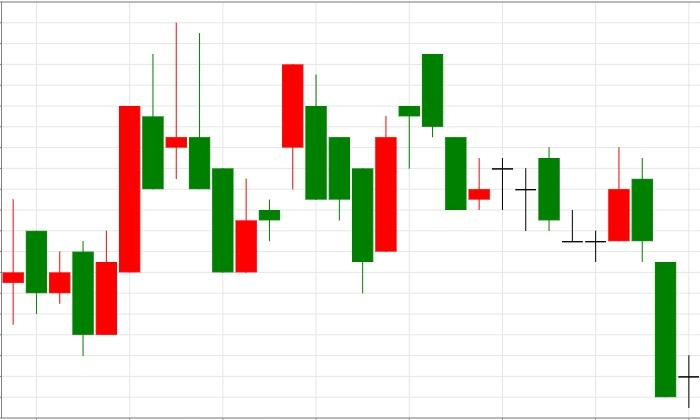shooting_star_fall: (71, 22, 211, 356)
